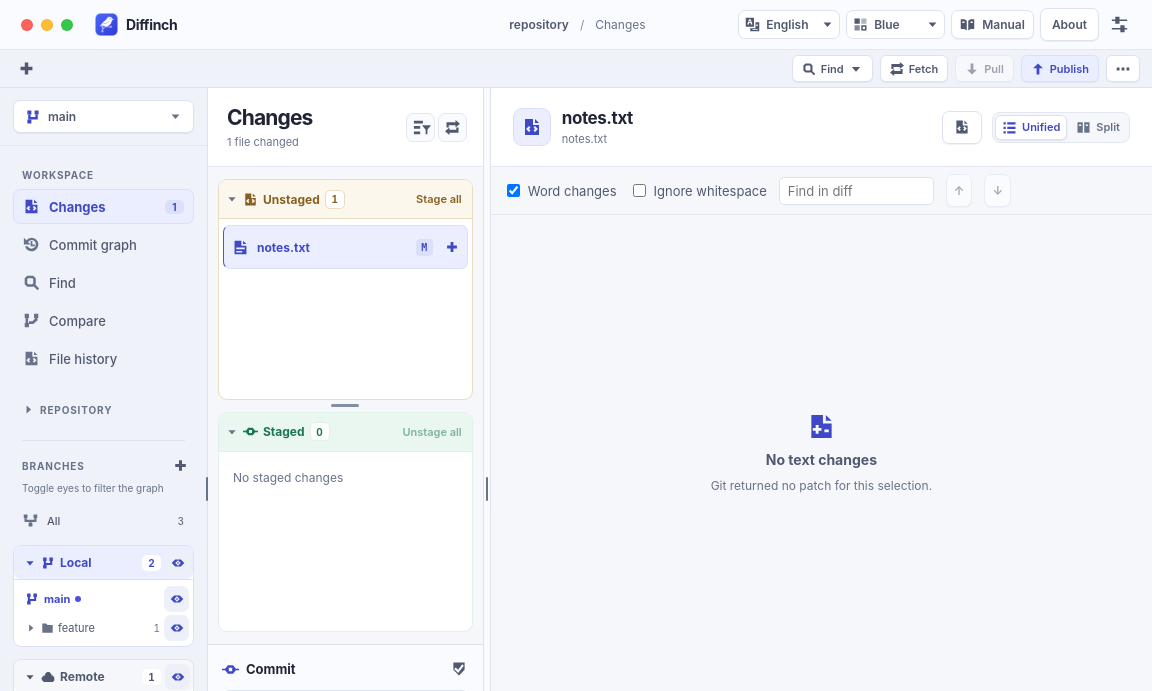
Test: reserves the Add repository button's width when space for tabs runs out
Click the button named "Add repository".
click(26, 68)  # box [12,54,41,83]
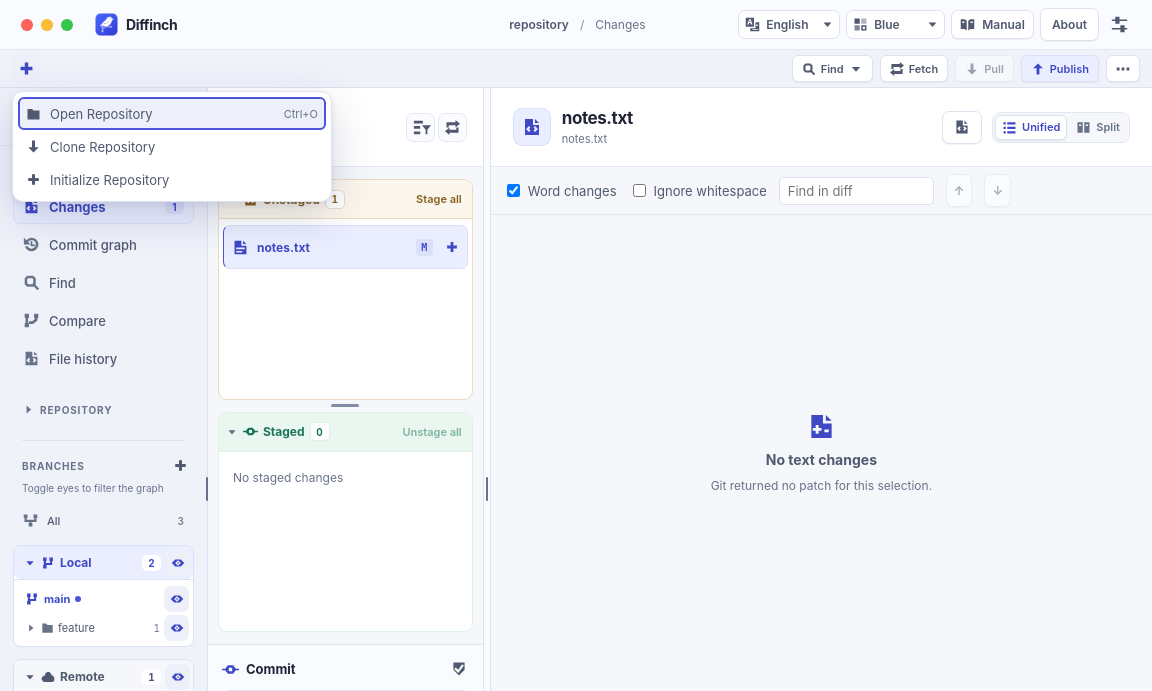
Now the menu item "Open Repository Ctrl+O" is shown, box [18,97,326,130]
